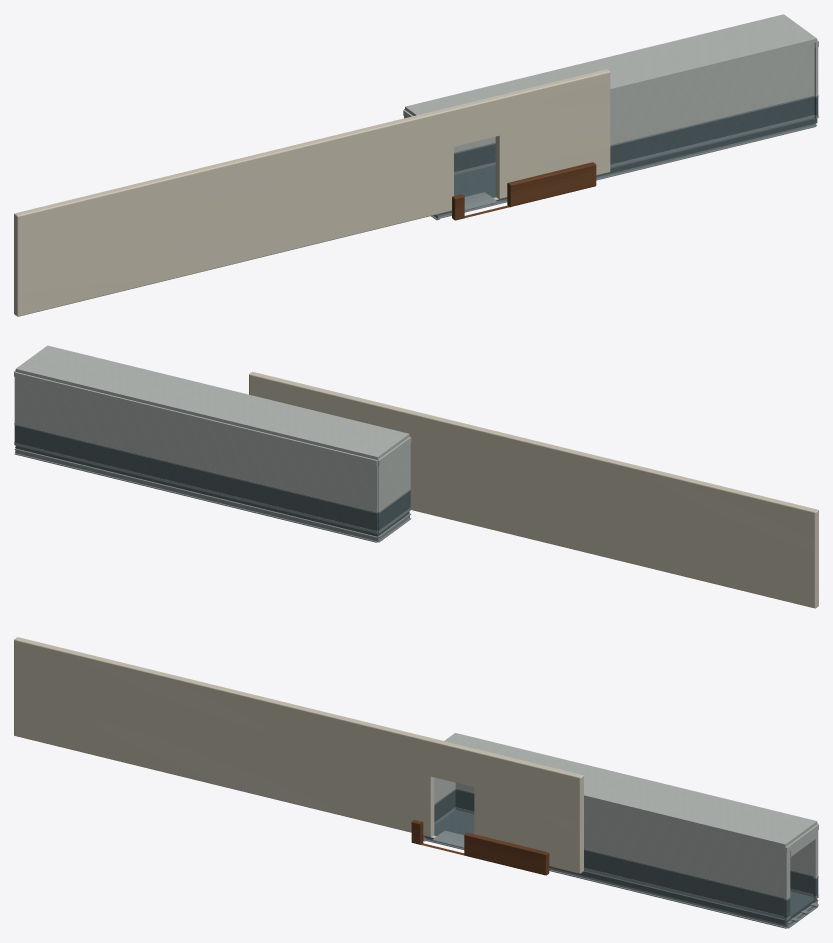
The model's file is GALLERY_SERVICE_RECEIVER_r001.glb.
3 views of the same model, one above another, from view 1: azimuth 30°, elevation 25°; view 2: azimuth 150°, elevation 25°; view 3: azimuth 330°, elevation 25° (orthographic). The views are drawn at different scales.
Visible parts, largest first — view 1: MGS_SUCCESSOR_D12_directory_07__enclosure_1, MGS_BATCH_001, MGS_BATCH_000, MGS_BATCH_002, MGS_SUCCESSOR_D12_directory_07__dado-1_0; view 2: MGS_SUCCESSOR_D12_directory_07__enclosure_1, MGS_BATCH_001, MGS_BATCH_000, MGS_BATCH_002; view 3: MGS_SUCCESSOR_D12_directory_07__enclosure_1, MGS_BATCH_001, MGS_BATCH_000, MGS_BATCH_002, MGS_SUCCESSOR_D12_directory_07__dado-1_0.
Boxes of the visible parts, x1,y1,x2,y2 form: MGS_SUCCESSOR_D12_directory_07__enclosure_1: [14, 69, 610, 316]; MGS_BATCH_001: [403, 14, 818, 152]; MGS_BATCH_000: [438, 97, 818, 215]; MGS_BATCH_002: [431, 95, 818, 220]; MGS_SUCCESSOR_D12_directory_07__dado-1_0: [452, 162, 596, 220]; MGS_SUCCESSOR_D12_directory_07__enclosure_1: [249, 372, 818, 608]; MGS_BATCH_001: [14, 345, 411, 512]; MGS_BATCH_000: [14, 425, 410, 536]; MGS_BATCH_002: [14, 423, 411, 542]; MGS_SUCCESSOR_D12_directory_07__enclosure_1: [14, 637, 583, 873]; MGS_BATCH_001: [434, 733, 818, 899]; MGS_BATCH_000: [424, 790, 818, 925]; MGS_BATCH_002: [423, 788, 818, 928]; MGS_SUCCESSOR_D12_directory_07__dado-1_0: [411, 820, 549, 875].
Bounding box in the file's own units: 42.3 × 5.51 × 4.44.
6 materials, 5 textured.
